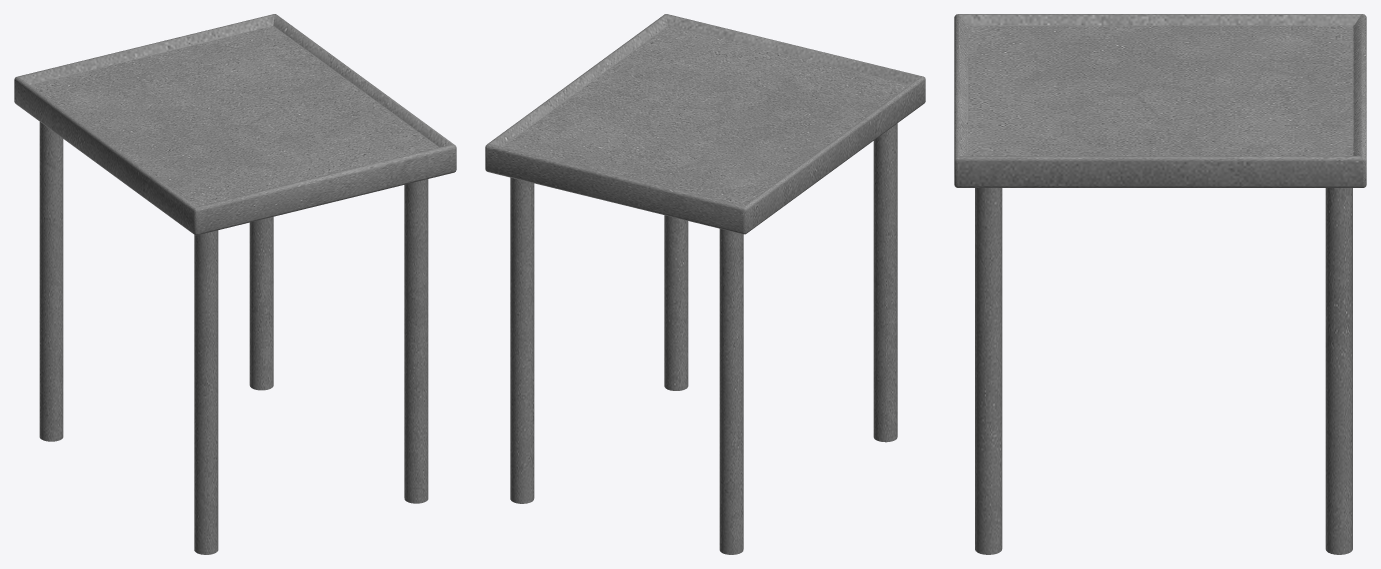
The model's file is Table_Top.fbx.
3 renders of one model, left to right at view 1: azimuth 30°, elevation 25°; view 2: azimuth 150°, elevation 25°; view 3: azimuth 270°, elevation 25°, orthographic. The views are drawn at different scales.
Parts seen in each view (by area): view 1: Table_Top; view 2: Table_Top; view 3: Table_Top.
Boxes of the visible parts, x1,y1,x2,y2 form: Table_Top: (14,14,456,554); Table_Top: (485,14,925,554); Table_Top: (954,14,1366,554).
Bounding box in the file's own units: 250 × 325 × 300.
